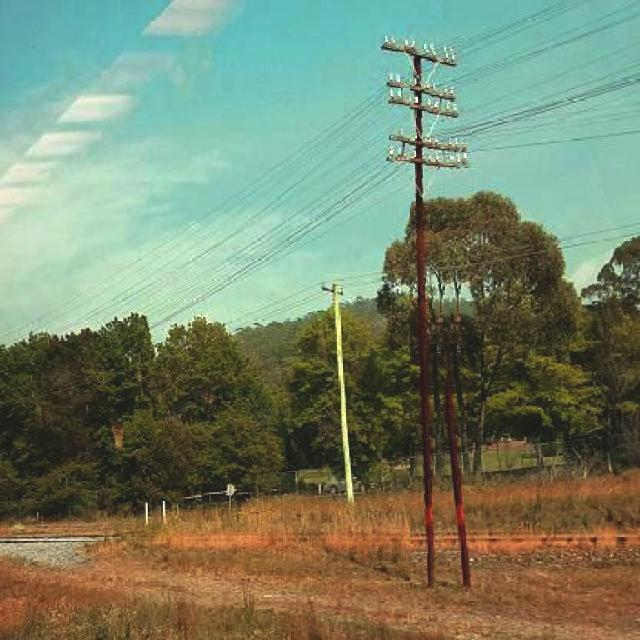crossarm: (378, 71, 462, 104), (378, 88, 466, 119), (376, 35, 460, 62), (387, 129, 472, 153), (382, 145, 470, 168)
pole: (411, 50, 441, 589)
